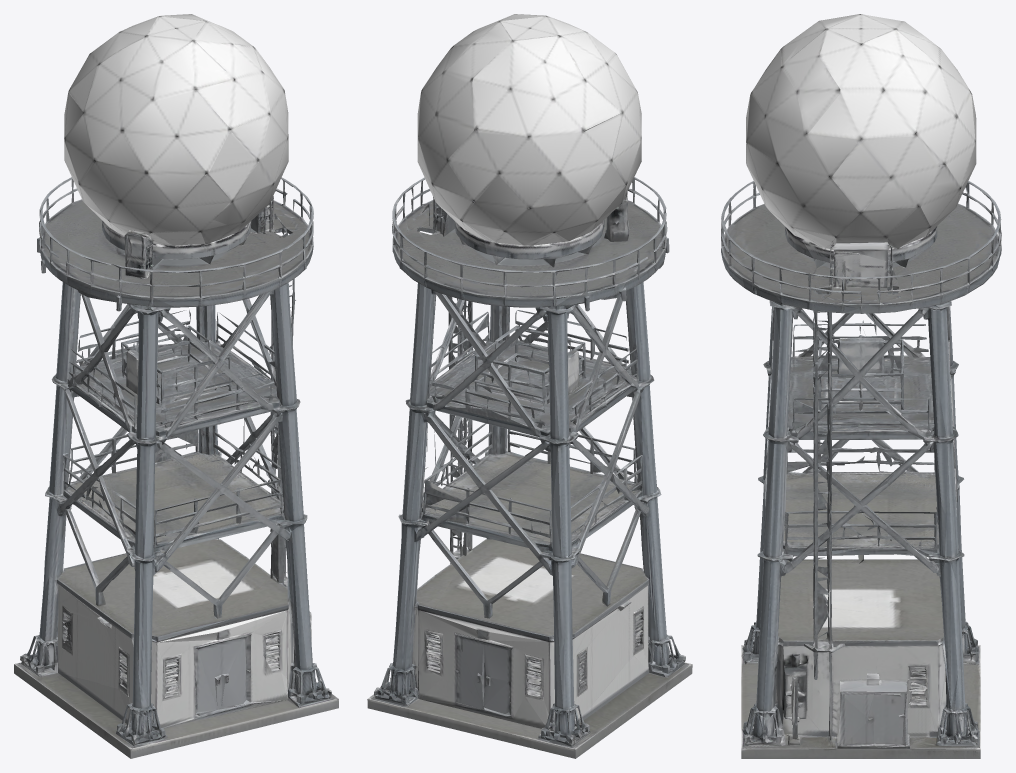
Rendered from radar_dome.glb.
3 views of the same model, side by side, from view 1: azimuth 30°, elevation 25°; view 2: azimuth 150°, elevation 25°; view 3: azimuth 270°, elevation 25° (orthographic). The views are drawn at different scales.
Parts seen in each view (by area): view 1: radar_dome; view 2: radar_dome; view 3: radar_dome.
Boxes of the visible parts, left/top/right/bottom form: radar_dome: left=14, top=14, right=338, bottom=758; radar_dome: left=367, top=14, right=692, bottom=758; radar_dome: left=721, top=14, right=1001, bottom=758.
Size of the model in its own units: 0.7112 by 1.9 by 0.7127.
Materials: 1 (1 with a texture image).
